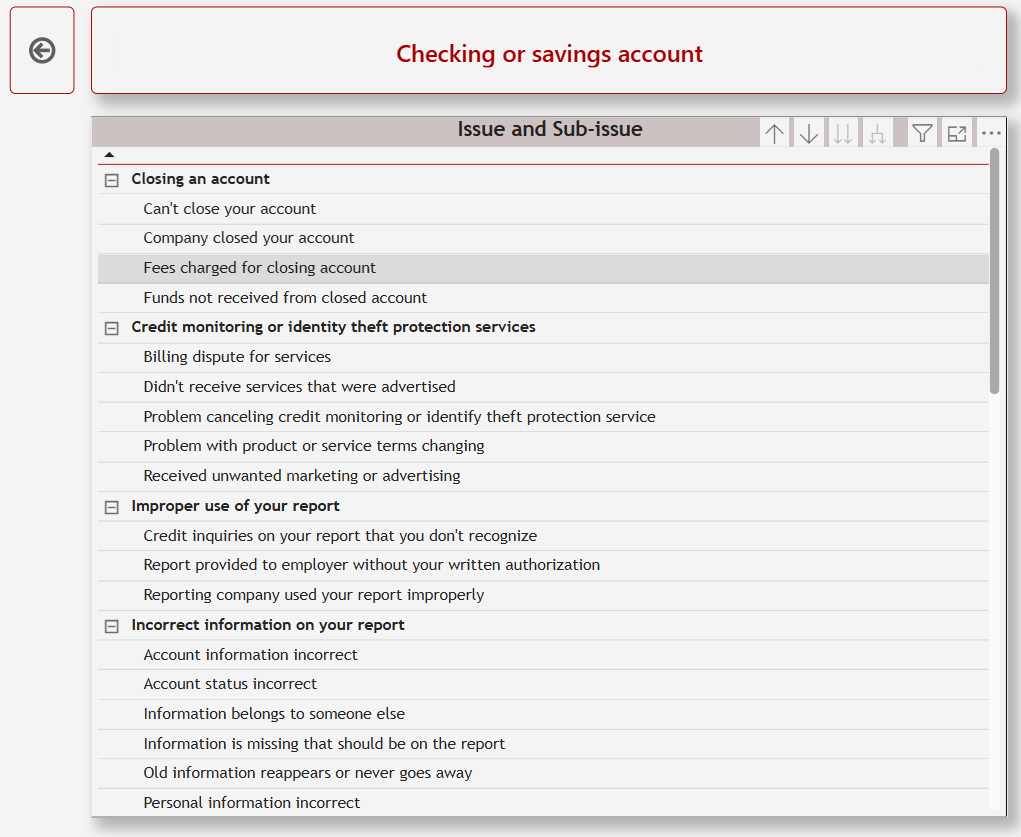

The dashboard page shown, as its layout file describes it:
{"tool":"powerbi","page":{"name":"Issue and Sub-issue","canvas":[960,720],"ordinal":1},"visuals":[{"type":"pivotTable","title":"Issue and Sub-issue","fields":{"Rows":["Data.Issue","Data.Sub-issue"]},"box":[23.1,110.7,910.3,589.9],"z":0},{"type":"actionButton","box":[23.5,18.5,54.7,73.6],"z":1000},{"type":"cardVisual","fields":{"Data":["Min(Data.Product)"]},"box":[92,19,621,73],"z":2000},{"type":"slicer","fields":{"Values":["Data.Issue"]},"box":[727.6,18.6,205.8,73.5],"z":3000}]}

Visuals, with their boxes on the page's 960x720 design canvas (x1, y1, x2, y2). These are canvas units, not pixel positions in the 1021x837 screenshot, which may show the page scaled, cropped or inside an application window:
"Issue and Sub-issue" pivotTable: rect(23, 111, 933, 701)
actionButton: rect(24, 18, 78, 92)
cardVisual - Min(Data.Product): rect(92, 19, 713, 92)
slicer - Data.Issue: rect(728, 19, 933, 92)
